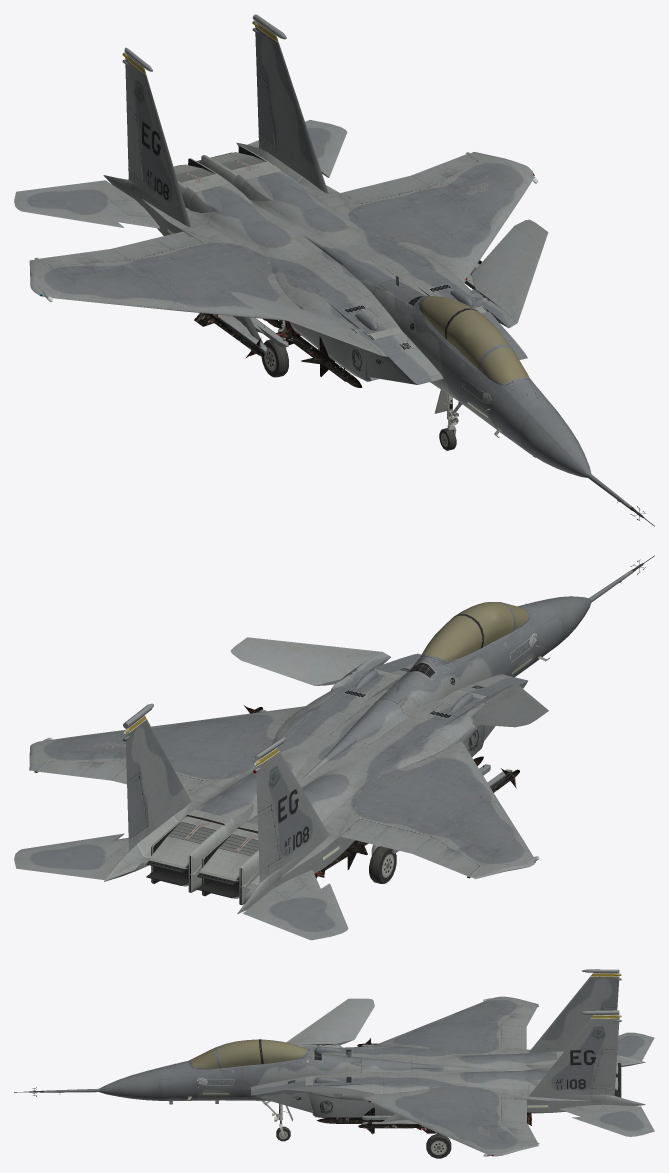
The model's file is f-15s-mto.glb.
3 renders of one model, top to bottom at view 1: azimuth 30°, elevation 25°; view 2: azimuth 150°, elevation 25°; view 3: azimuth 270°, elevation 25°, orthographic. The views are drawn at different scales.
Parts seen in each view (by area): view 1: DrawCall_0183_962f2efd.dds_0, DrawCall_0283_Glass_0, DrawCall_0148_f5ebd7ae.dds_0; view 2: DrawCall_0183_962f2efd.dds_0, DrawCall_0283_Glass_0, DrawCall_0148_f5ebd7ae.dds_0; view 3: DrawCall_0183_962f2efd.dds_0, DrawCall_0283_Glass_0, DrawCall_0148_f5ebd7ae.dds_0.
Boxes of the visible parts, x1,y1,x2,y2 form: DrawCall_0183_962f2efd.dds_0: (14, 14, 654, 526); DrawCall_0283_Glass_0: (421, 296, 528, 383); DrawCall_0148_f5ebd7ae.dds_0: (194, 260, 481, 387); DrawCall_0183_962f2efd.dds_0: (14, 555, 654, 940); DrawCall_0283_Glass_0: (422, 602, 529, 660); DrawCall_0148_f5ebd7ae.dds_0: (244, 705, 519, 878); DrawCall_0183_962f2efd.dds_0: (14, 969, 654, 1158); DrawCall_0283_Glass_0: (191, 1039, 307, 1068); DrawCall_0148_f5ebd7ae.dds_0: (317, 1038, 531, 1134).
Size of the model in its own units: 13.23 by 5.86 by 22.59.
Materials: 3 (3 with a texture image).
